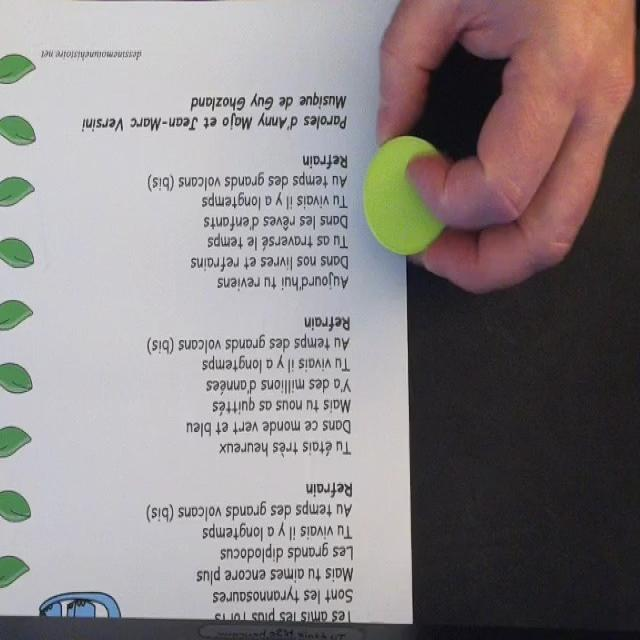round: (361, 135, 455, 254)
